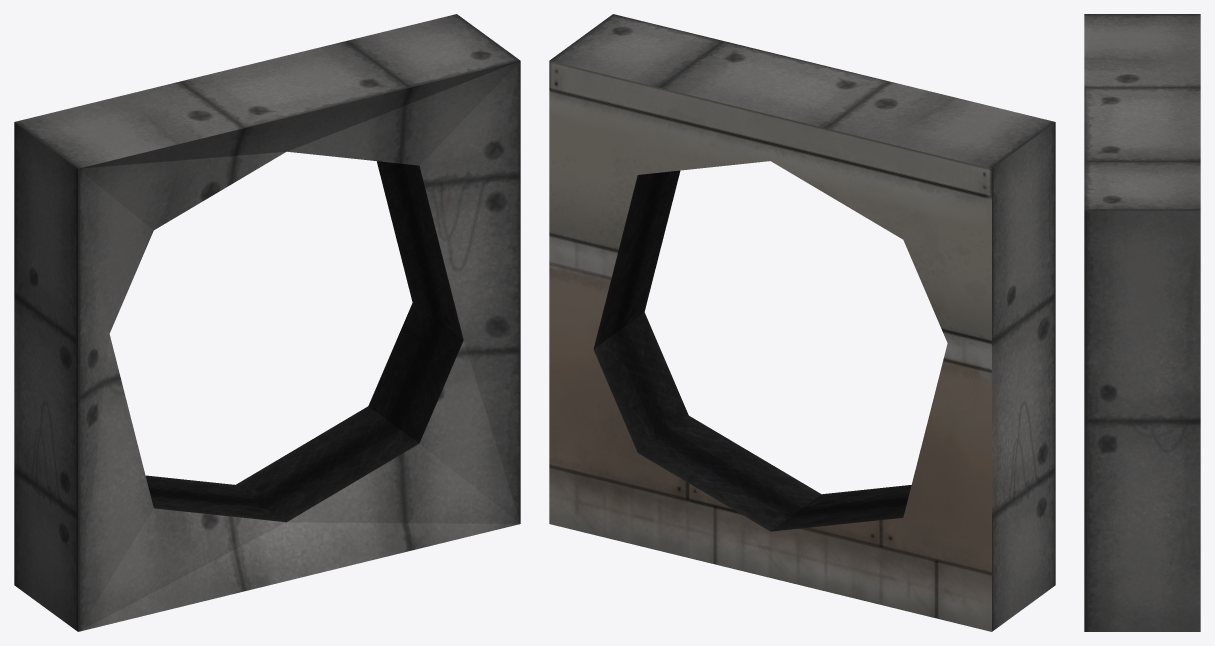
Rendered from surfacehole1_single.obj.
3 renders of one model, left to right at view 1: azimuth 30°, elevation 25°; view 2: azimuth 150°, elevation 25°; view 3: azimuth 270°, elevation 25°, orthographic. The views are drawn at different scales.
Parts seen in each view (by area): view 1: surfacehole1_single_surfacehole1_single_mesh; view 2: surfacehole1_single_surfacehole1_single_mesh; view 3: surfacehole1_single_surfacehole1_single_mesh.
Part boxes in pixels (<box>): surfacehole1_single_surfacehole1_single_mesh: <box>14,14,520,631</box>; surfacehole1_single_surfacehole1_single_mesh: <box>549,14,1055,631</box>; surfacehole1_single_surfacehole1_single_mesh: <box>1084,14,1200,631</box>.
Bounding box in the file's own units: 1 × 1 × 0.25.
